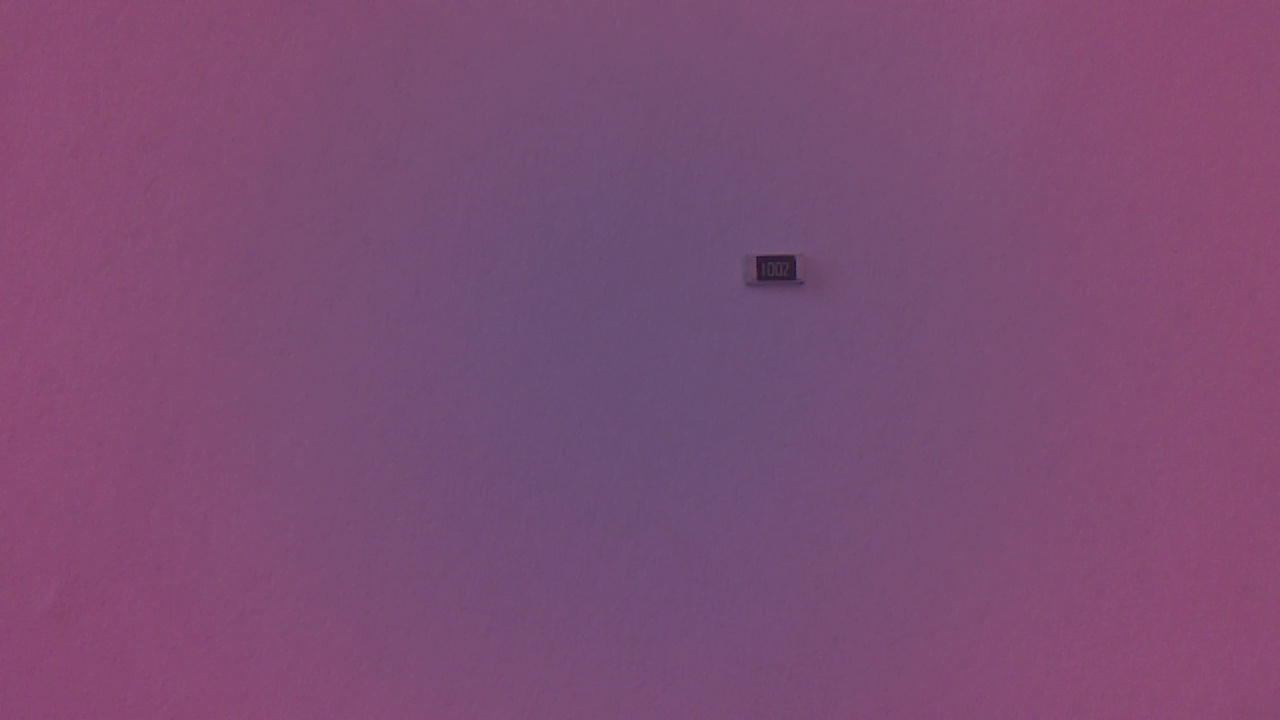Resistor: (742, 254, 813, 294)
